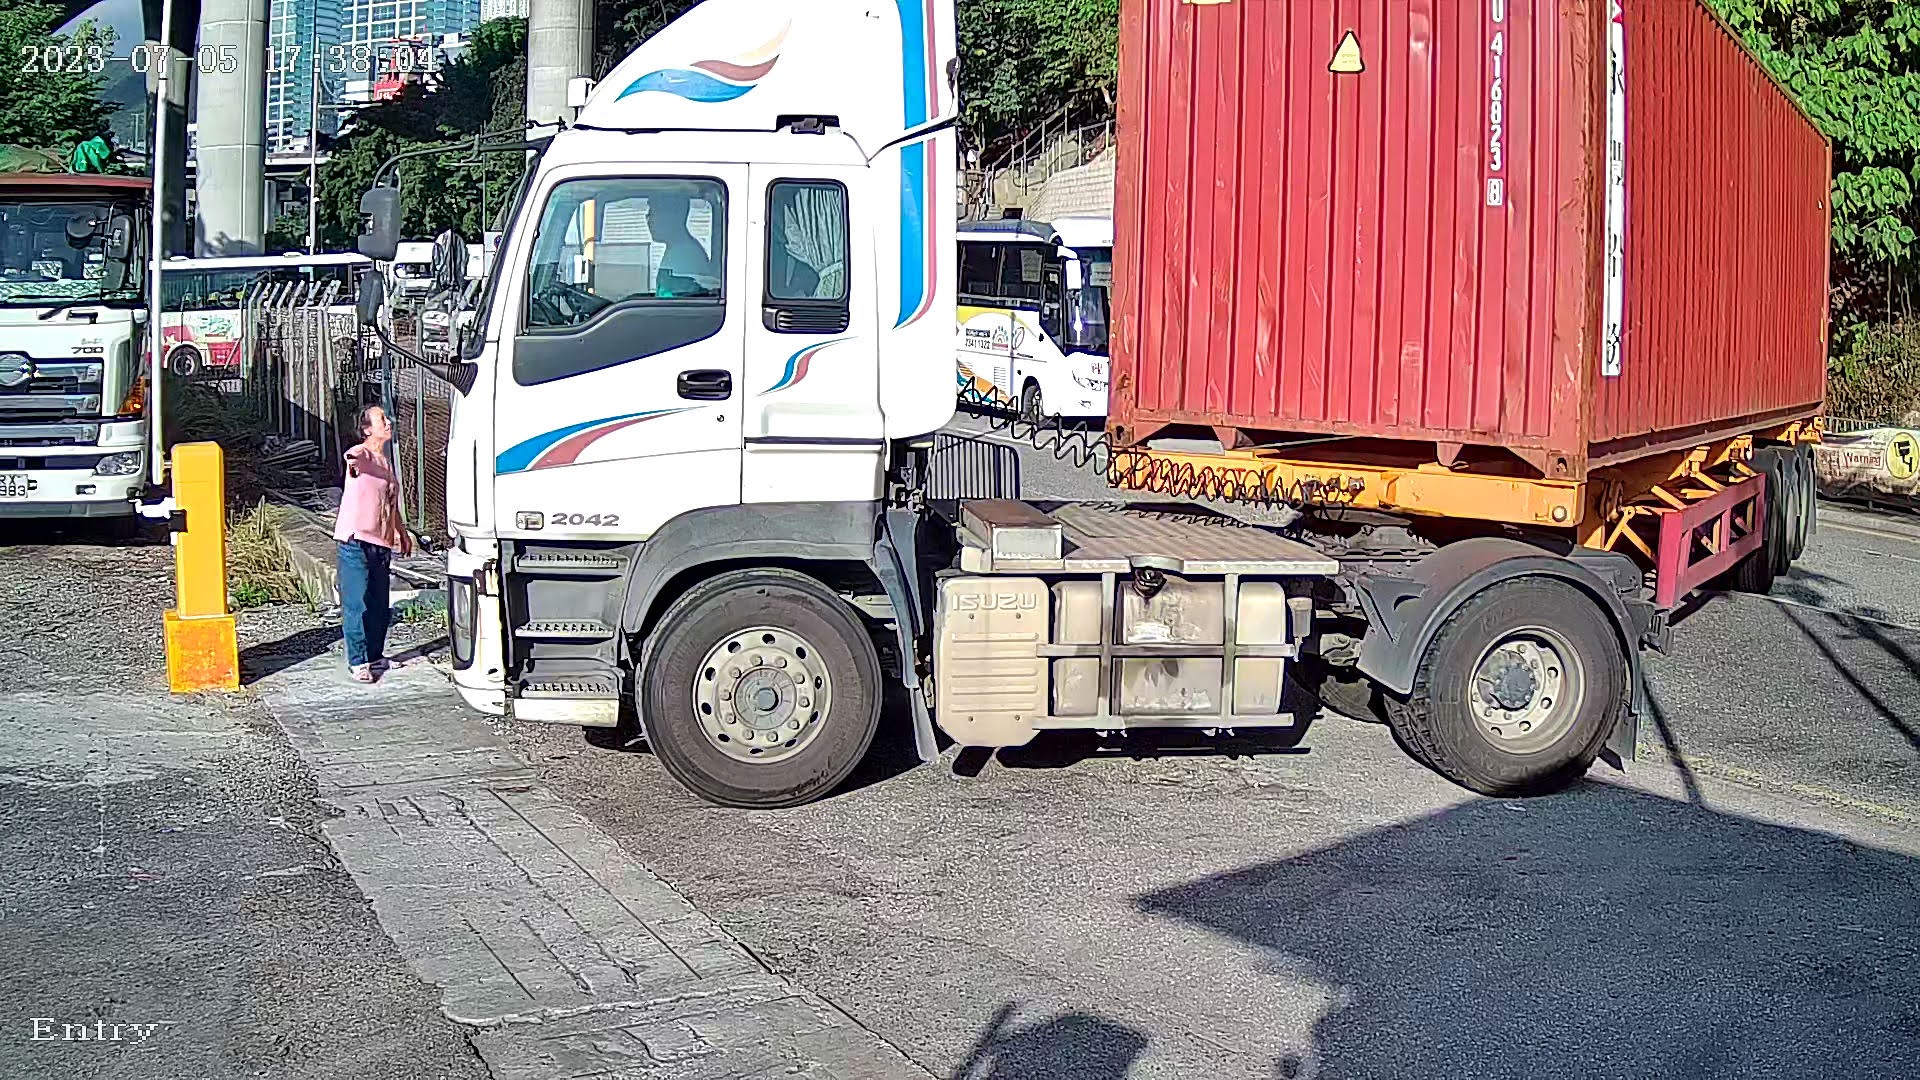tractor: (390, 1, 1849, 825)
